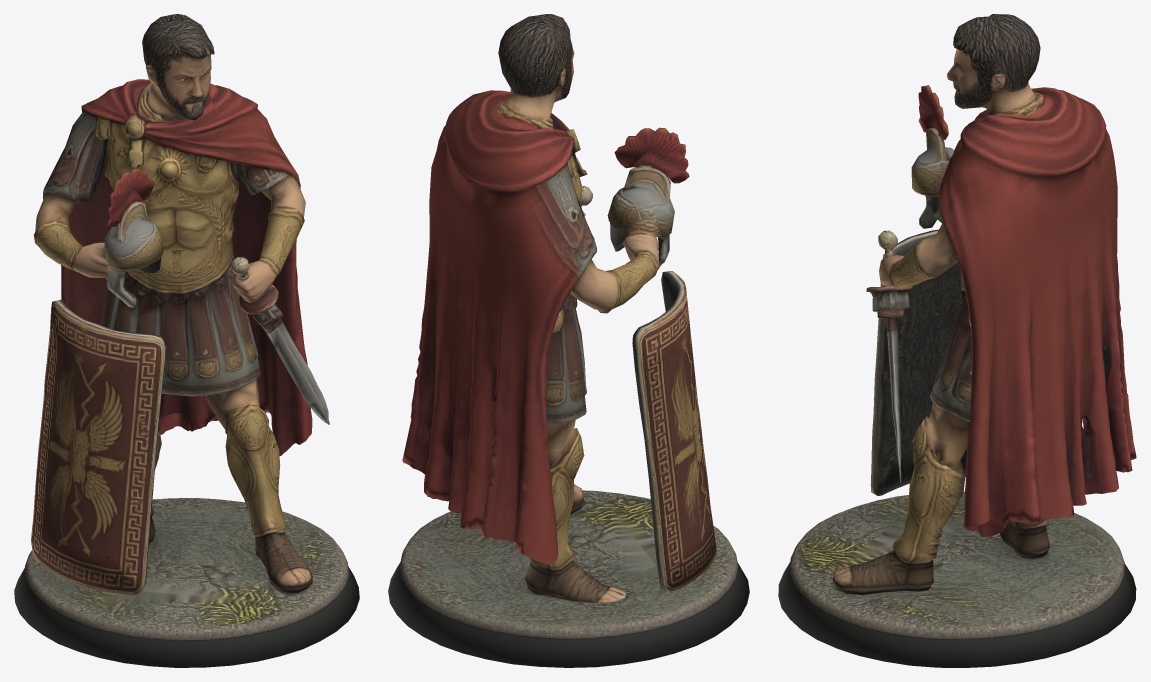
The model's file is fighter_alt3_male.glb.
3 views of the same model, side by side, from view 1: azimuth 30°, elevation 25°; view 2: azimuth 150°, elevation 25°; view 3: azimuth 270°, elevation 25° (orthographic). The views are drawn at different scales.
Visible parts, largest first — view 1: tripo_node_c01b905c-1a75-4601-9ba5-8a5a1a7caa2d; view 2: tripo_node_c01b905c-1a75-4601-9ba5-8a5a1a7caa2d; view 3: tripo_node_c01b905c-1a75-4601-9ba5-8a5a1a7caa2d.
Boxes of the visible parts, <box> form: tripo_node_c01b905c-1a75-4601-9ba5-8a5a1a7caa2d: <box>14,14,359,667</box>; tripo_node_c01b905c-1a75-4601-9ba5-8a5a1a7caa2d: <box>388,14,749,667</box>; tripo_node_c01b905c-1a75-4601-9ba5-8a5a1a7caa2d: <box>778,14,1136,667</box>.
Bounding box in the file's own units: 0.5583 × 0.998 × 0.5588.
1 material, 1 textured.
